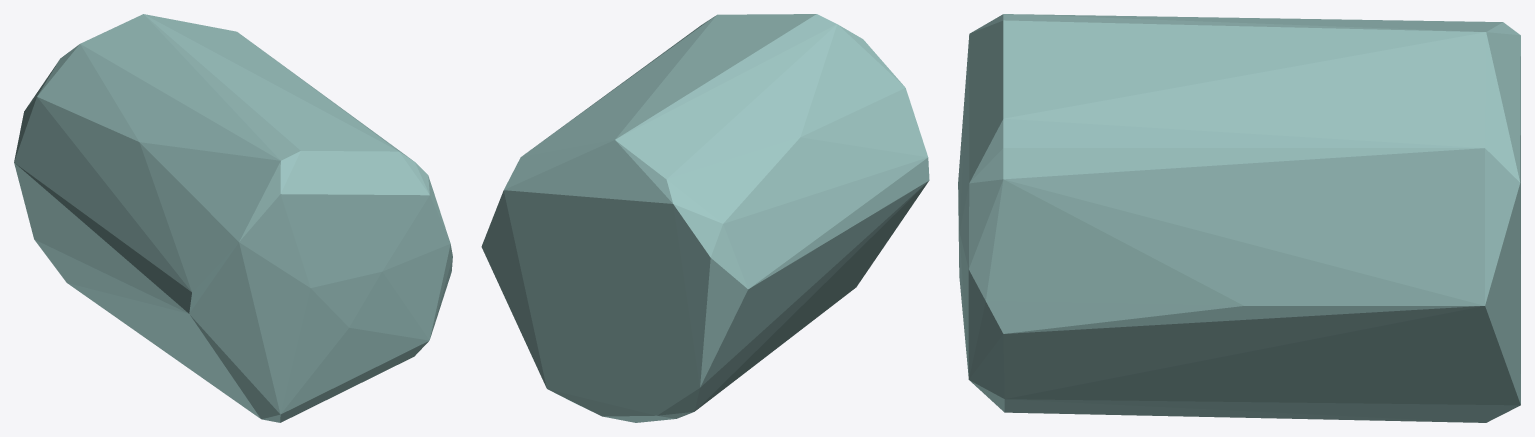
The model's file is food_beverage_can_b01.glb.
3 views of the same model, side by side, from view 1: azimuth 30°, elevation 25°; view 2: azimuth 150°, elevation 25°; view 3: azimuth 270°, elevation 25° (orthographic). The views are drawn at different scales.
Parts seen in each view (by area): view 1: geometry_0; view 2: geometry_0; view 3: geometry_0.
Boxes of the visible parts, box(x1,y1,x2,y2) form: geometry_0: box(14, 14, 452, 422); geometry_0: box(481, 14, 929, 422); geometry_0: box(958, 14, 1520, 422).
Size of the model in its own units: 0.3521 by 0.3489 by 0.48.
